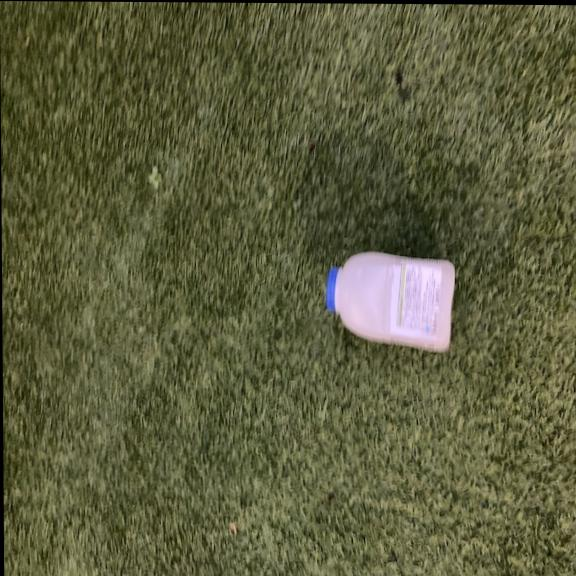Plastik: (324, 248, 457, 351)
